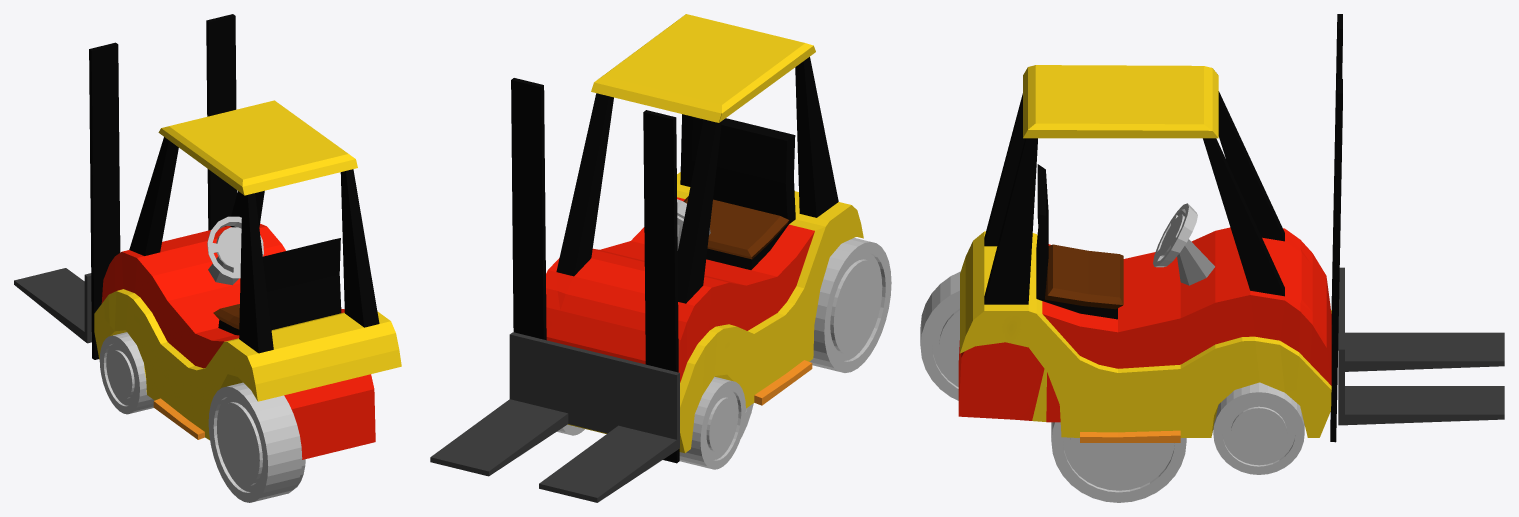
Rendered from Forklift_BigWheel.fbx.
The picture shows the model from 3 angles, left to right: view 1: azimuth 30°, elevation 25°; view 2: azimuth 150°, elevation 25°; view 3: azimuth 270°, elevation 25°; orthographic projection. The views are drawn at different scales.
Visible parts, largest first — view 1: ForkBody, Cylinder.001, ForkLifter, Cylinder.003, Cylinder.004; view 2: ForkBody, ForkLifter, Cylinder.001, Cylinder.003; view 3: ForkBody, ForkLifter, Cylinder, Cylinder.002, Cylinder.001, Cylinder.004.
Part boxes in pixels (x1,y1,x2,y2): ForkBody: [89, 14, 401, 459]; Cylinder.001: [208, 382, 302, 502]; ForkLifter: [14, 268, 91, 343]; Cylinder.003: [99, 332, 154, 414]; Cylinder.004: [207, 216, 263, 278]; ForkBody: [511, 14, 863, 463]; ForkLifter: [430, 332, 679, 502]; Cylinder.001: [809, 237, 891, 372]; Cylinder.003: [679, 376, 745, 469]; ForkBody: [958, 14, 1342, 442]; ForkLifter: [1338, 267, 1504, 425]; Cylinder: [1051, 422, 1186, 502]; Cylinder.002: [1213, 382, 1304, 474]; Cylinder.001: [920, 271, 960, 400]; Cylinder.004: [1153, 203, 1197, 267].
Size of the model in its own units: 296 by 694 by 835.
